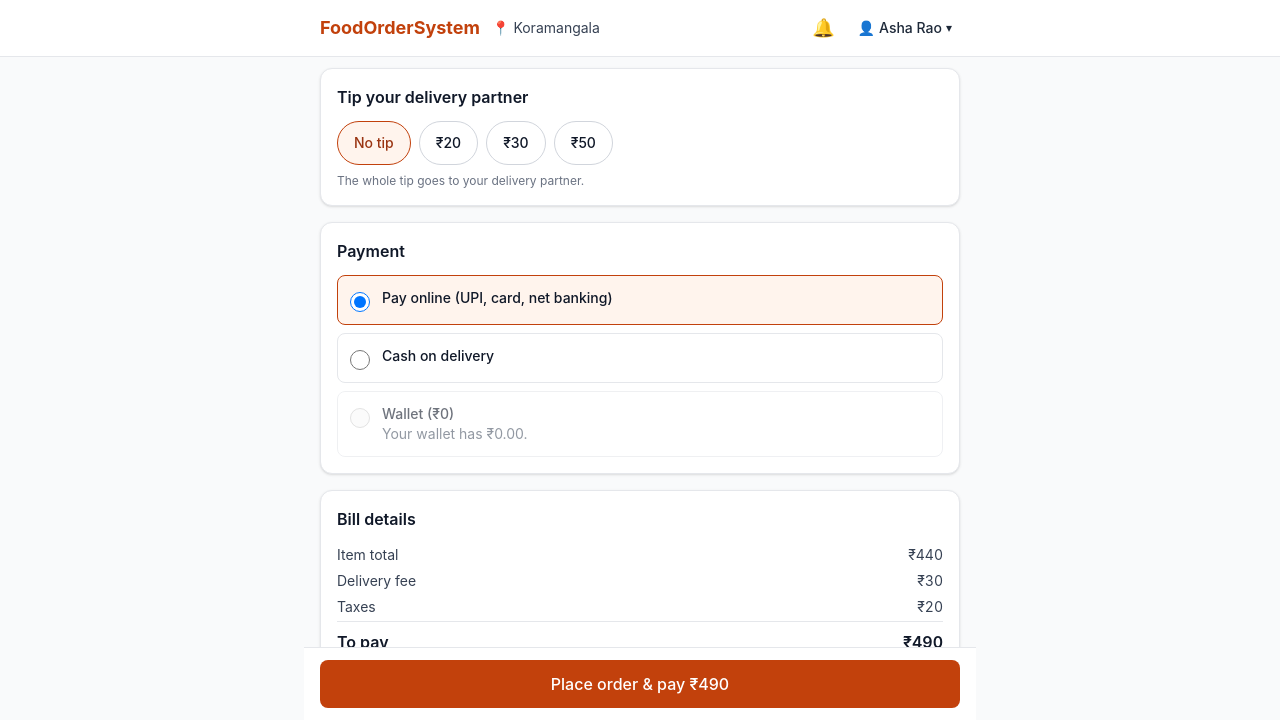
Test case: customer ordering journey › places a cash order with the confirmed total and an Idempotency-Key
This screenshot has width=1280, height=720.
(page scrolled)
Click the radio button labelled "Cash on delivery": (360, 360) [350,350,370,370]
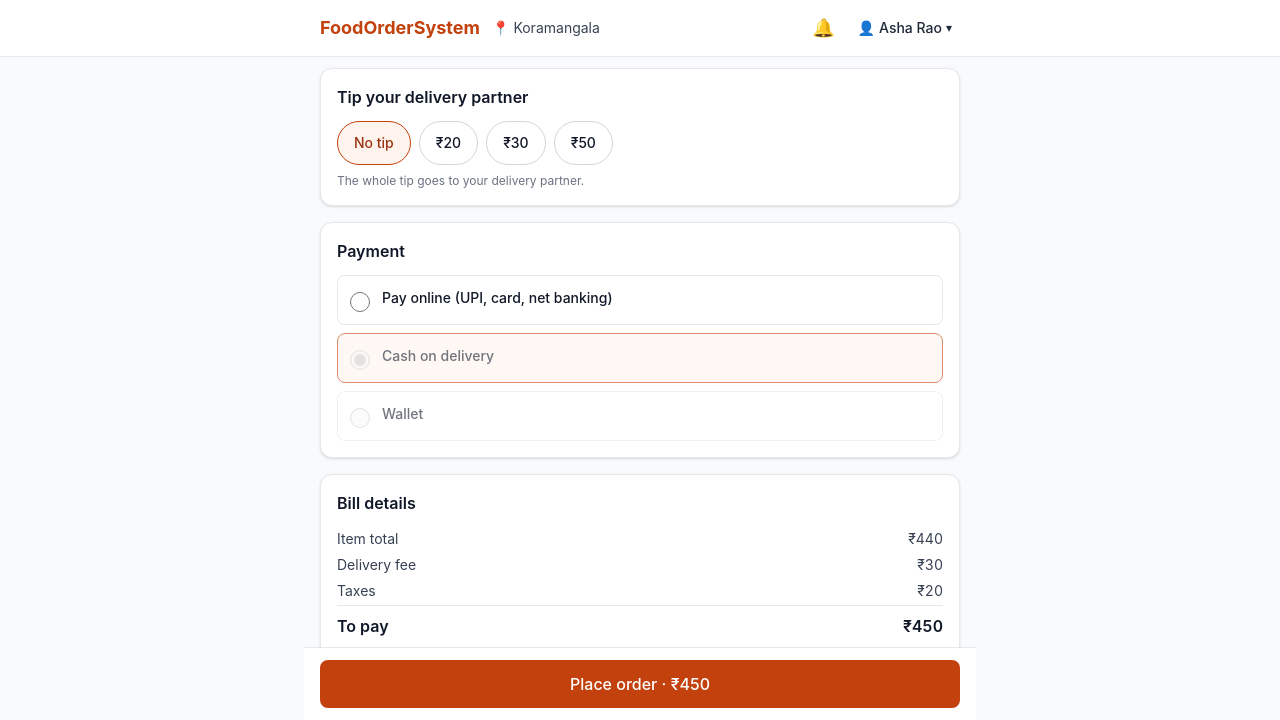
Click the button "Place order · ₹450": (640, 684) [320,660,960,708]
(page scrolled)
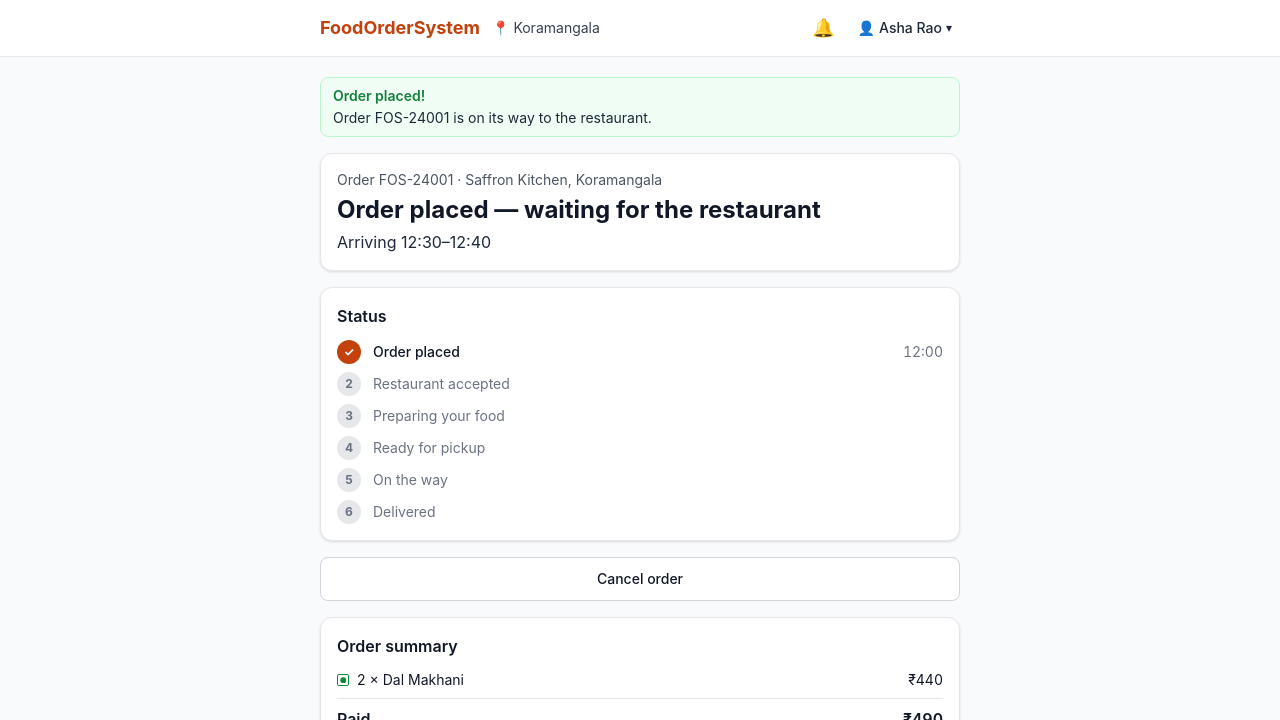
Check: the text "Order placed!" is shown, box [333,87,425,104]
